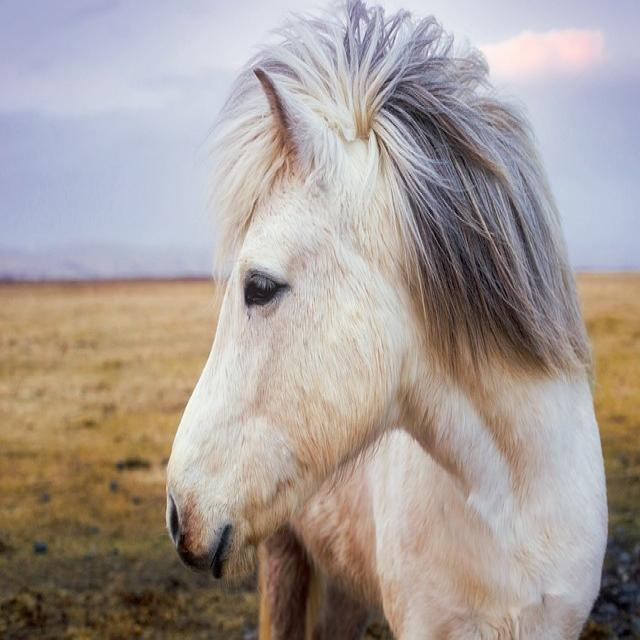Herbivorous: (165, 0, 610, 640)
